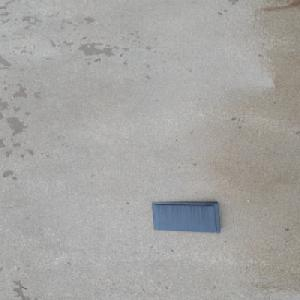PlasticPart: (149, 201, 221, 233)
